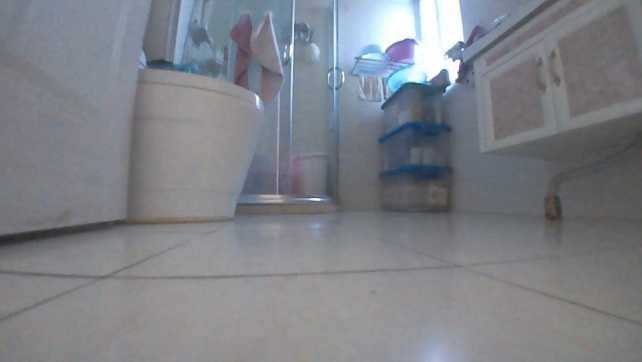door_sill: (237, 190, 340, 217)
toilet: (124, 60, 267, 225)
washstand: (460, 0, 639, 161)
